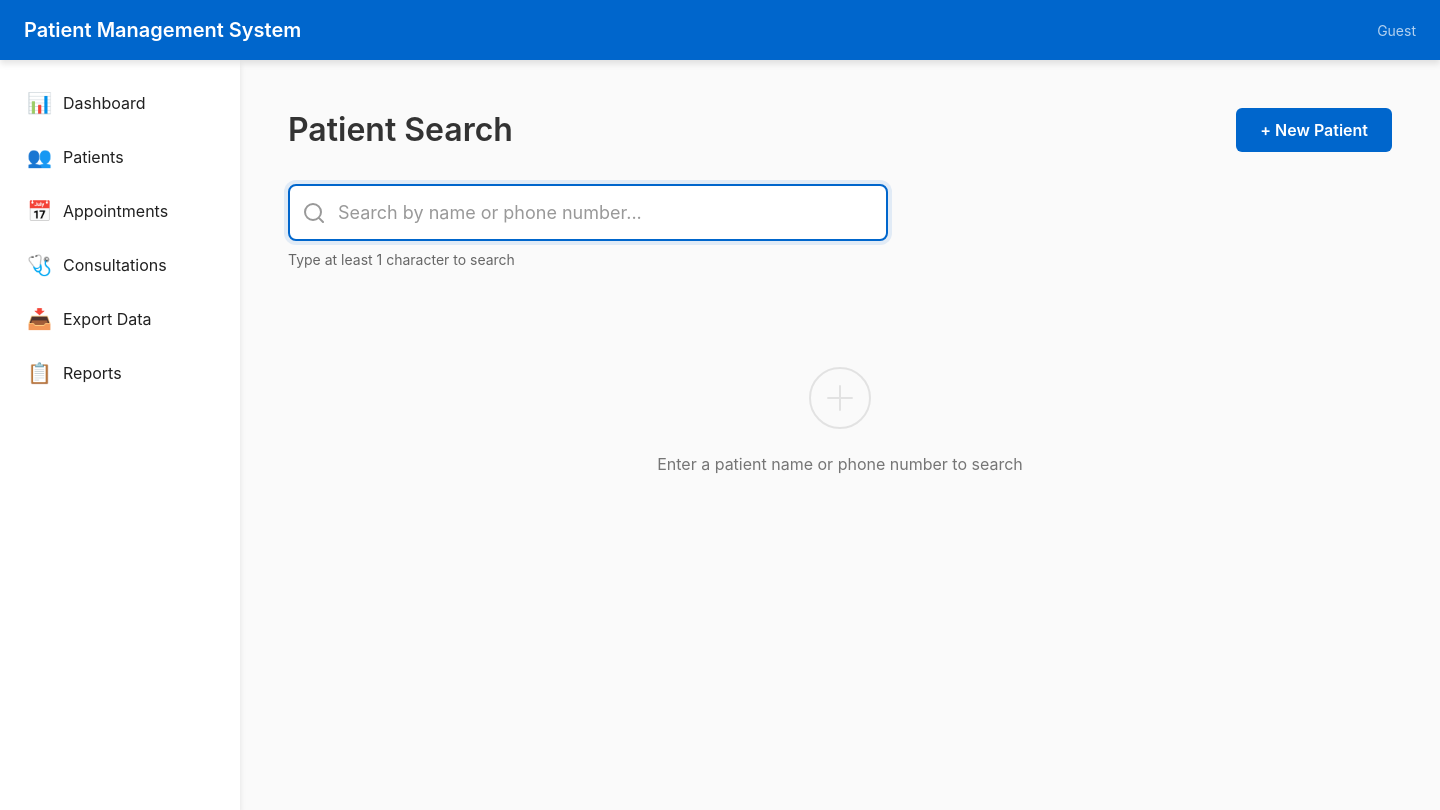
Test: PatientSearchPage › should clear error after successful search
The width and height of the screenshot is (1440, 810).
Type "Test" into the field with placeholder "Search by name or phone number..." at (588, 212), box [288,184,888,241]
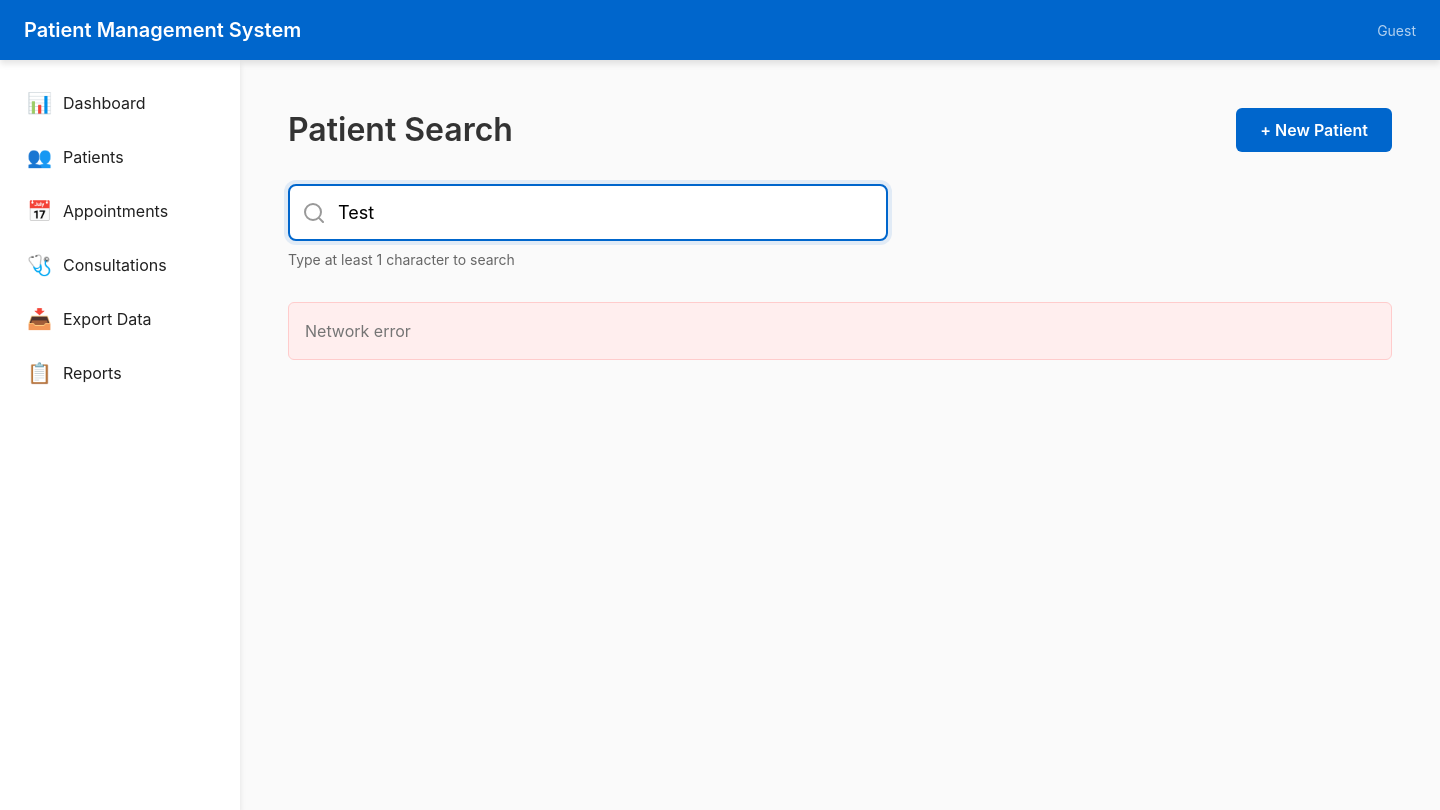
Replace the text in the field with placeholder "Search by name or phone number..." with "John" at (588, 212), box [288,184,888,241]
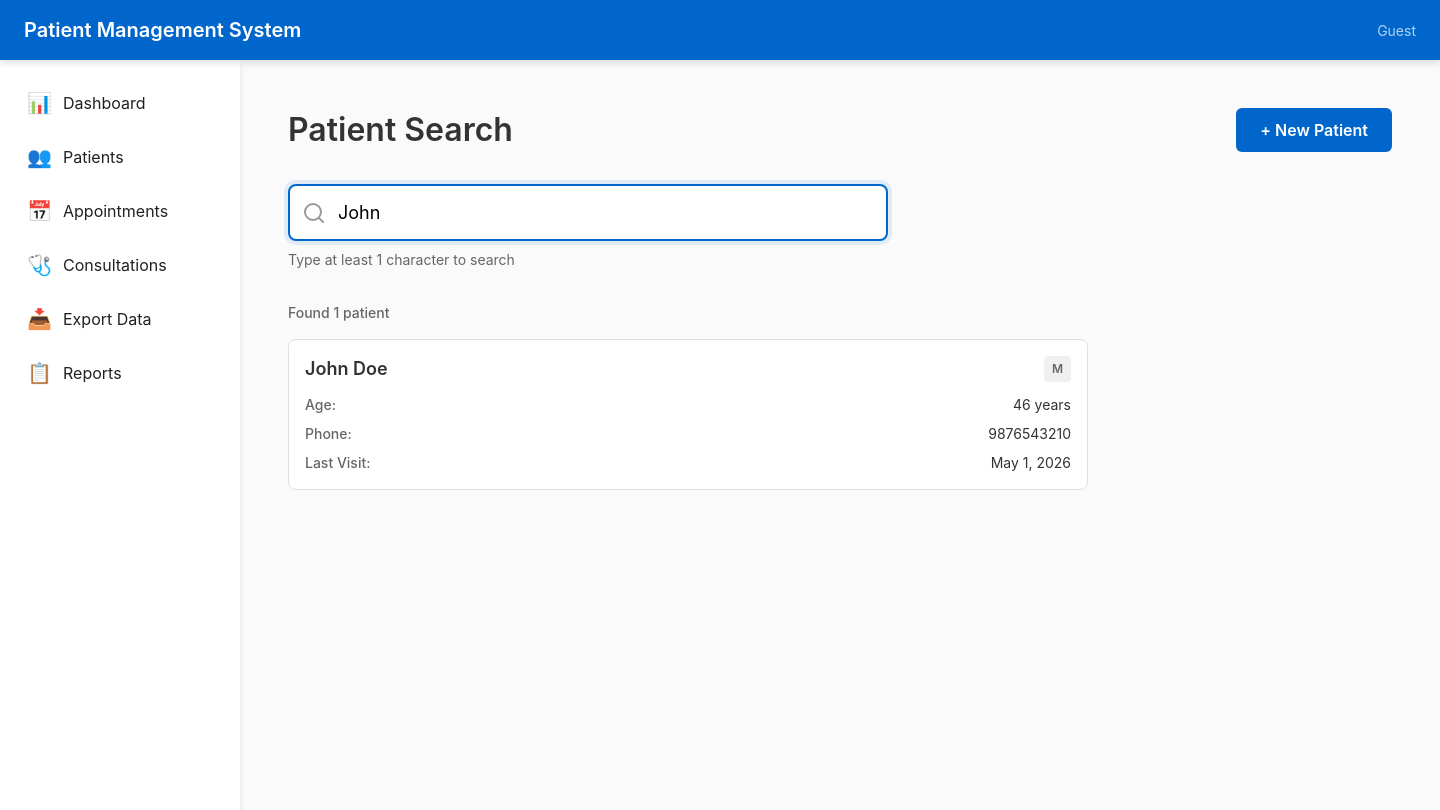
expect the heading "John Doe" is shown: met, box [305,358,388,380]
